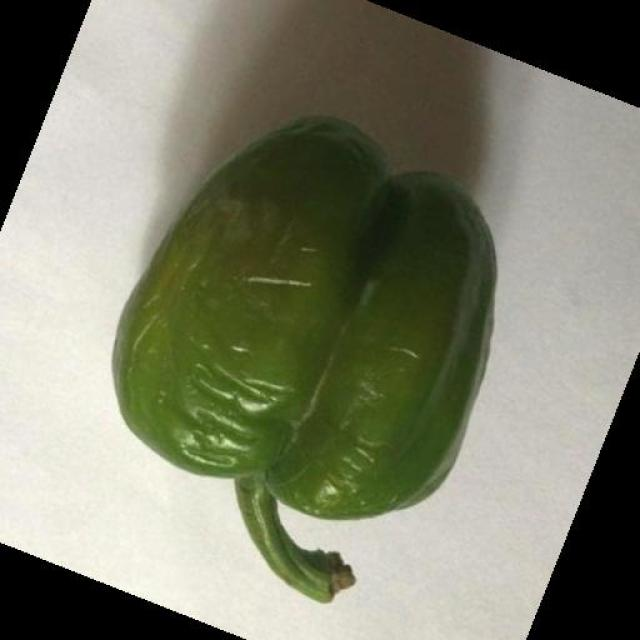Stale_Capsicum: (109, 100, 464, 591)
